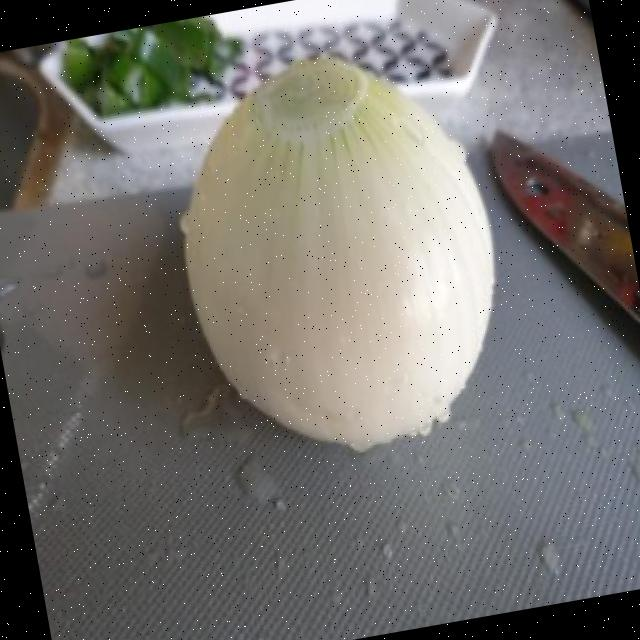Onion: (185, 57, 495, 450)
